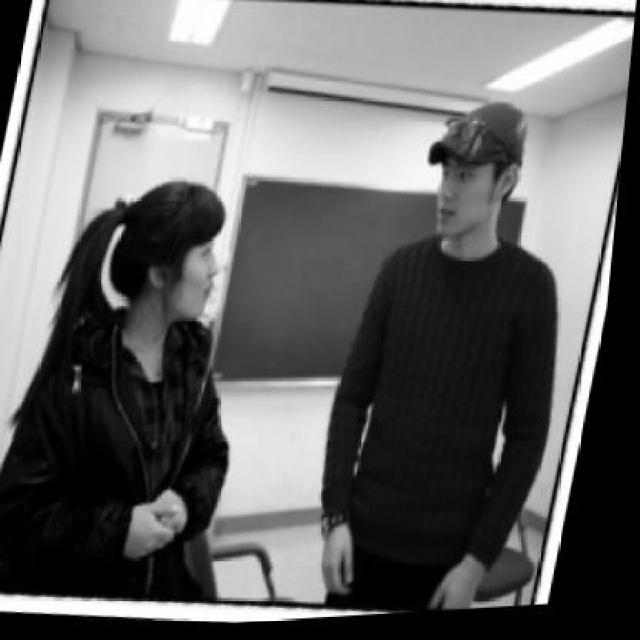hat: (431, 108, 531, 172)
